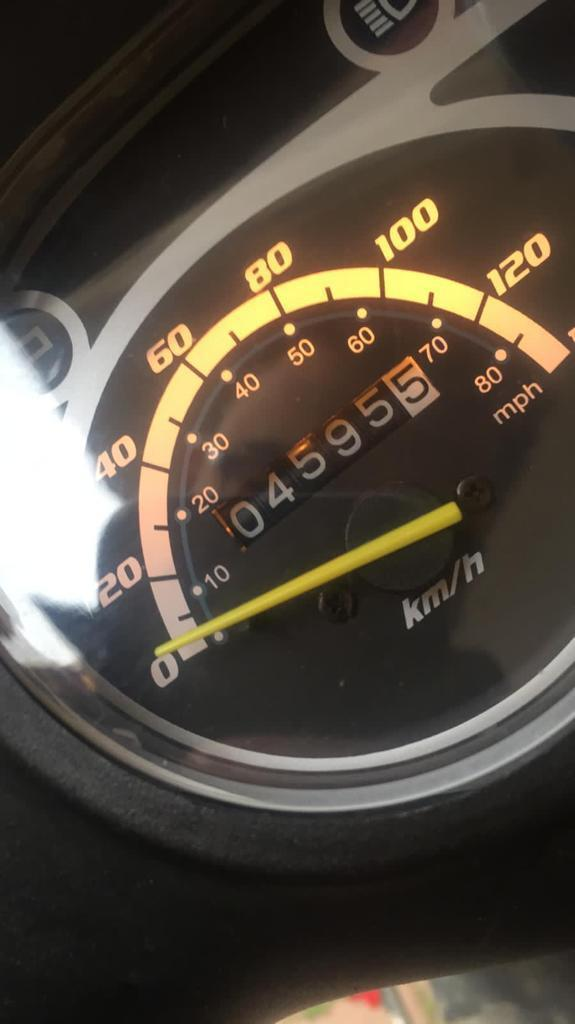0: (226, 501, 266, 539), (242, 371, 261, 392), (211, 432, 231, 450), (203, 484, 217, 504)
3: (201, 441, 220, 461)
4: (261, 468, 299, 510), (231, 378, 247, 402)
5: (281, 435, 328, 479), (387, 361, 433, 405), (349, 385, 394, 428), (285, 346, 305, 368)
9: (322, 417, 365, 456)
odometer: (207, 353, 456, 556)
